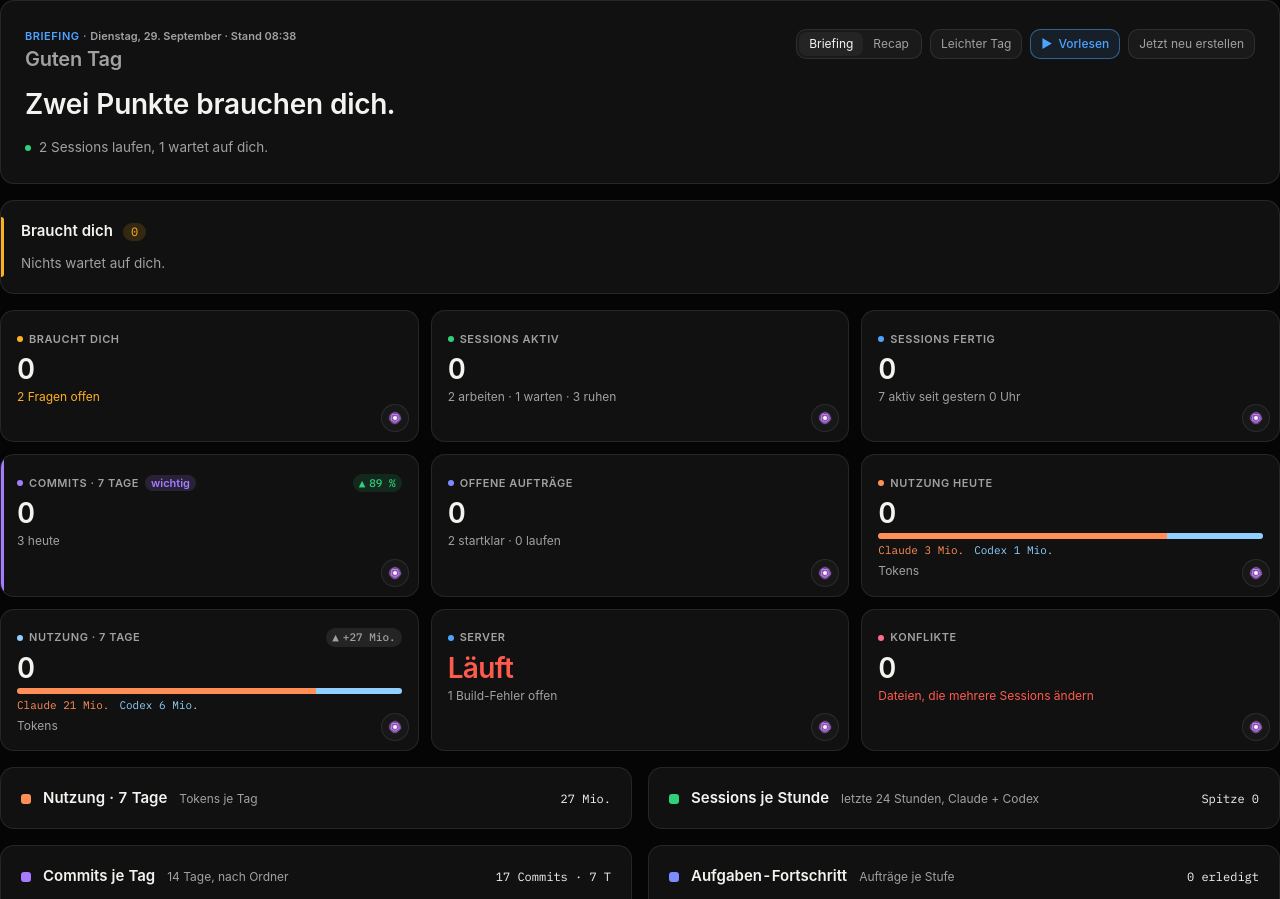
Briefing-Seite liest vor › während der bis zu 25 s Vorbereitung lässt sich das Vorlesen abbrechen (Knopf nicht gesperrt)
Click the button "▶ Vorlesen" at (1075,44), box [1030, 29, 1120, 59]
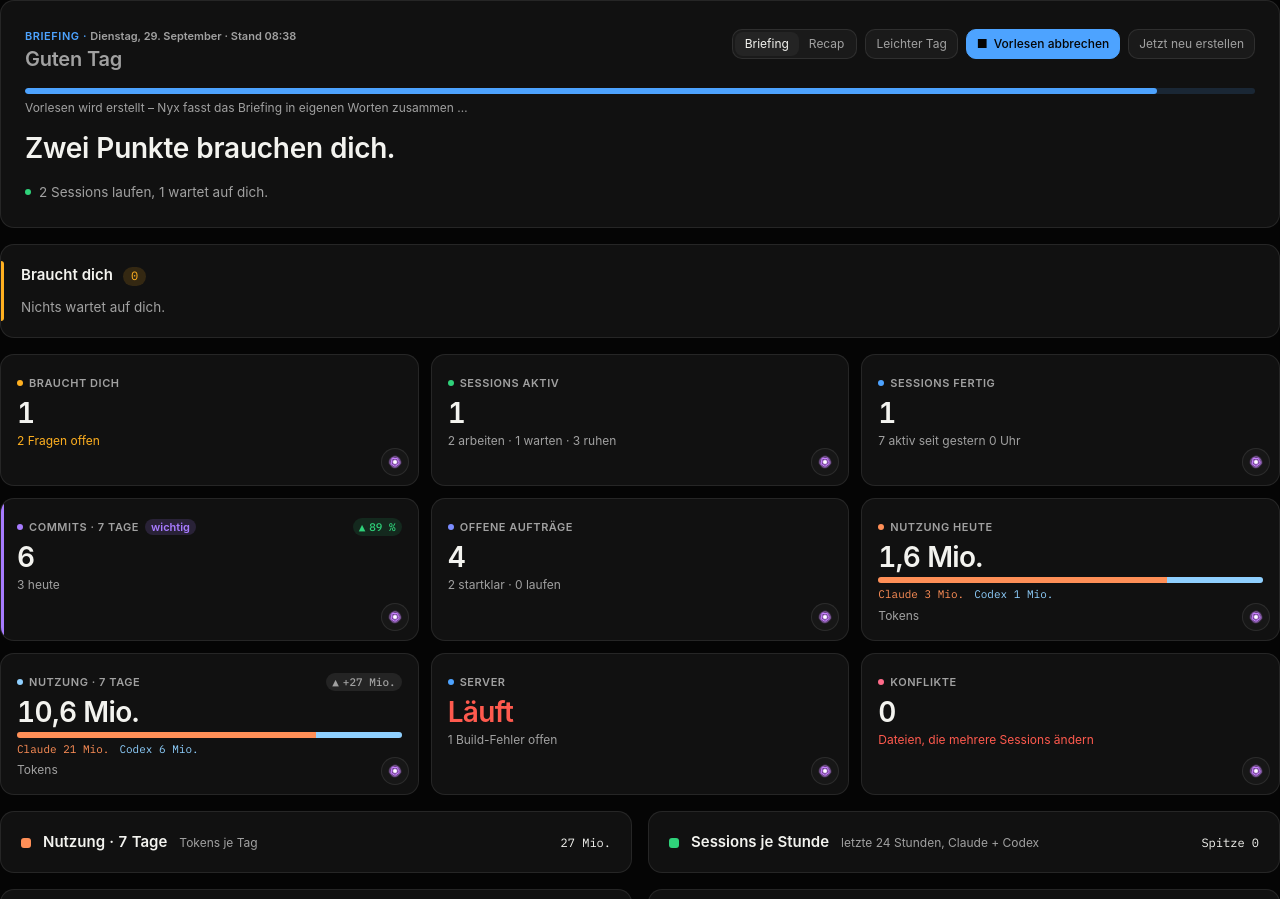
Expected: the message "Vorlesen wird erstellt – Nyx fasst das Briefing in eigenen Worten zusammen …" is shown, [25, 88, 1255, 116]
Click the button "■ Vorlesen abbrechen" at (1043,44), box [966, 29, 1120, 59]
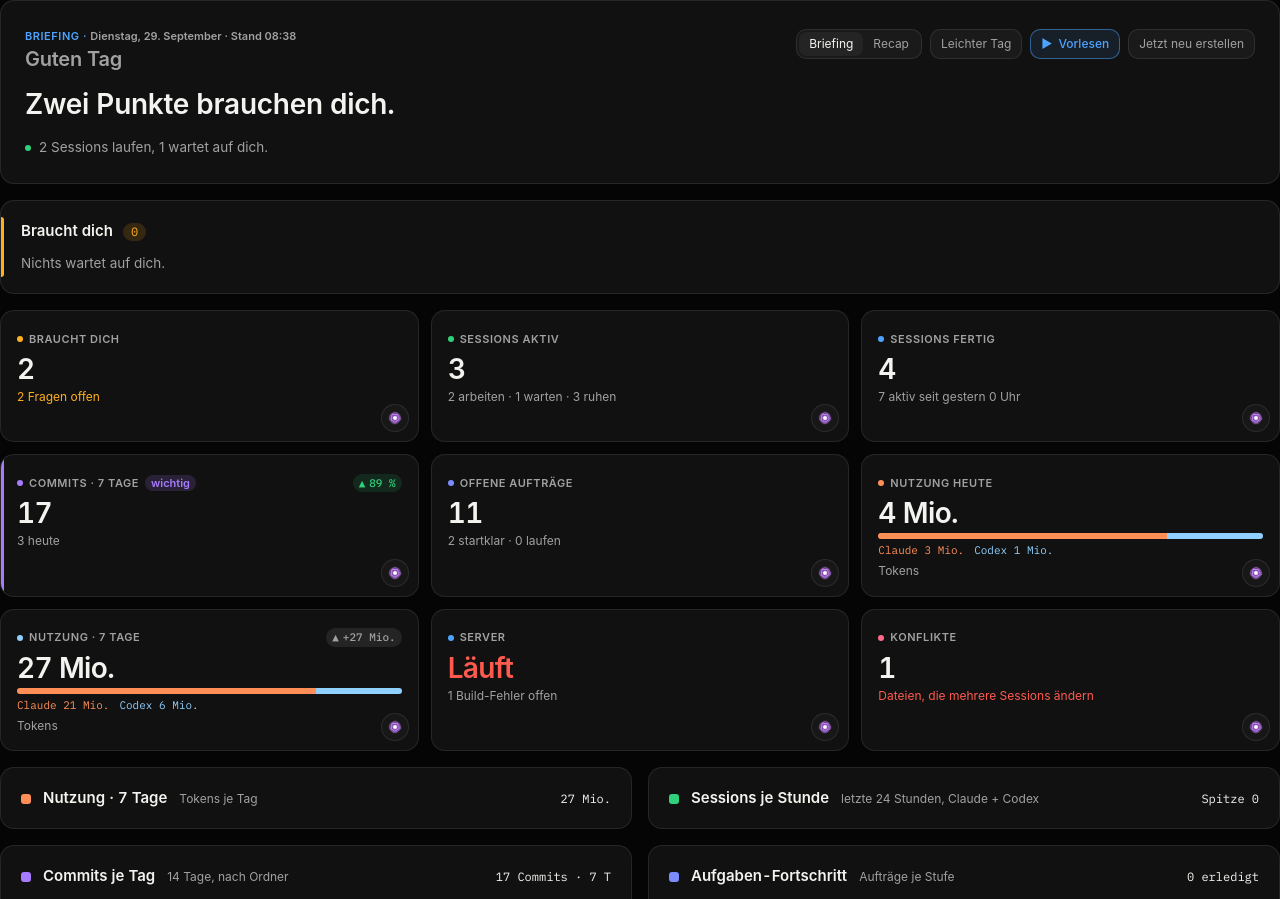
Expected: the button "▶ Vorlesen" is enabled, [1030, 29, 1120, 59]
Expected: the message with test id "read-aloud-progress" is gone
